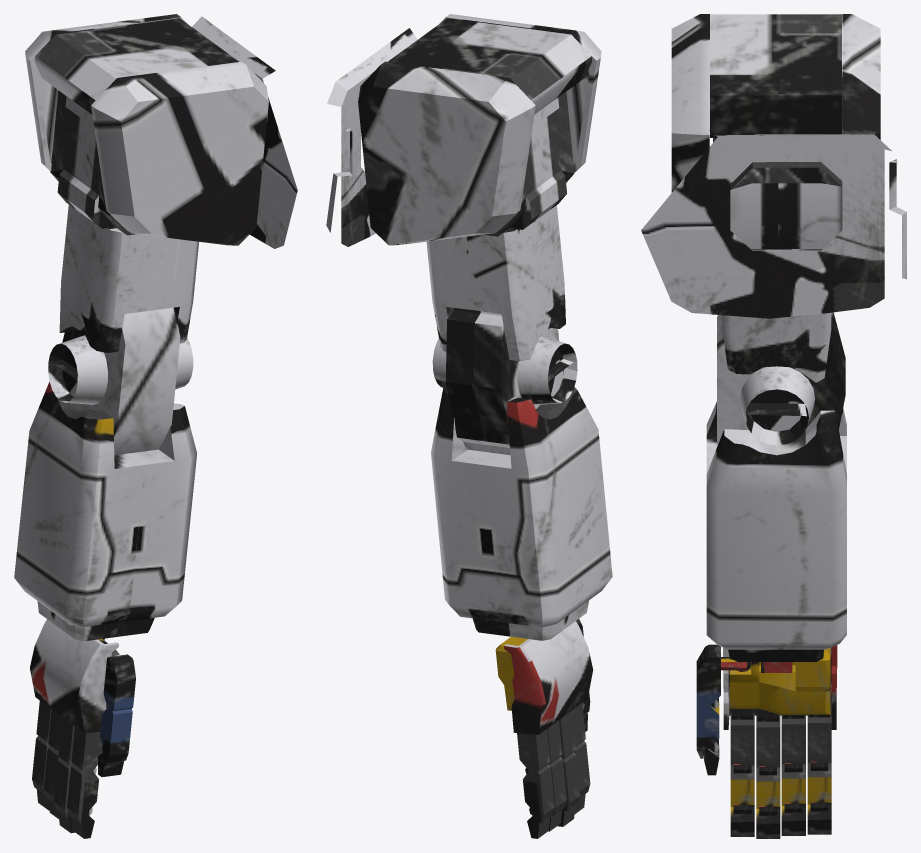
Rendered from handA.obj.
The picture shows the model from 3 angles, left to right: view 1: azimuth 30°, elevation 25°; view 2: azimuth 150°, elevation 25°; view 3: azimuth 270°, elevation 25°; orthographic projection. The views are drawn at different scales.
Parts seen in each view (by area): view 1: Gundam:polySurface666; view 2: Gundam:polySurface666; view 3: Gundam:polySurface666.
Part boxes in pixels (x1=…): Gundam:polySurface666: x1=14, y1=14, x2=297, y2=838; Gundam:polySurface666: x1=326, y1=14, x2=612, y2=838; Gundam:polySurface666: x1=641, y1=14, x2=906, y2=838.
Size of the model in its own units: 3.39 by 12.02 by 3.47.
1 material, 1 textured.
